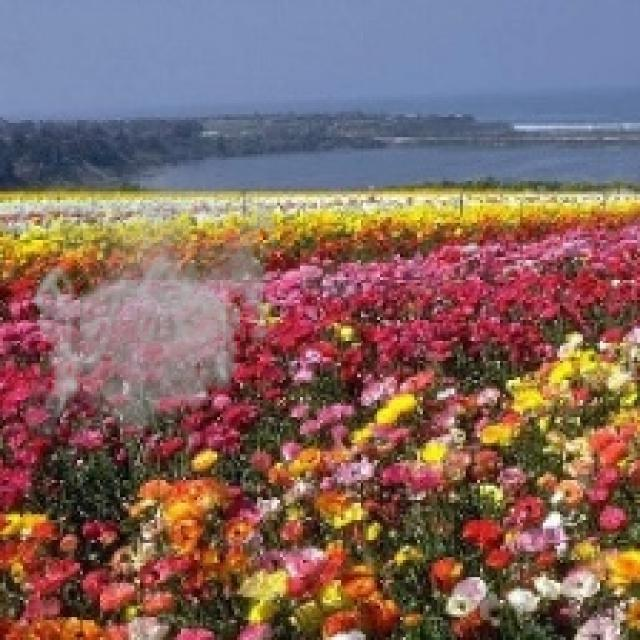Smoke: (28, 166, 286, 446)
